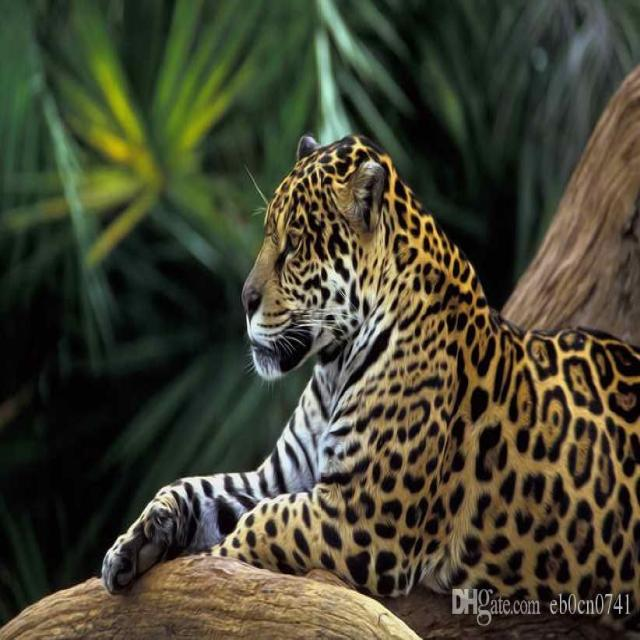Jaguar: (81, 121, 640, 626)
